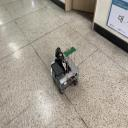cart: (50, 56, 80, 94)
